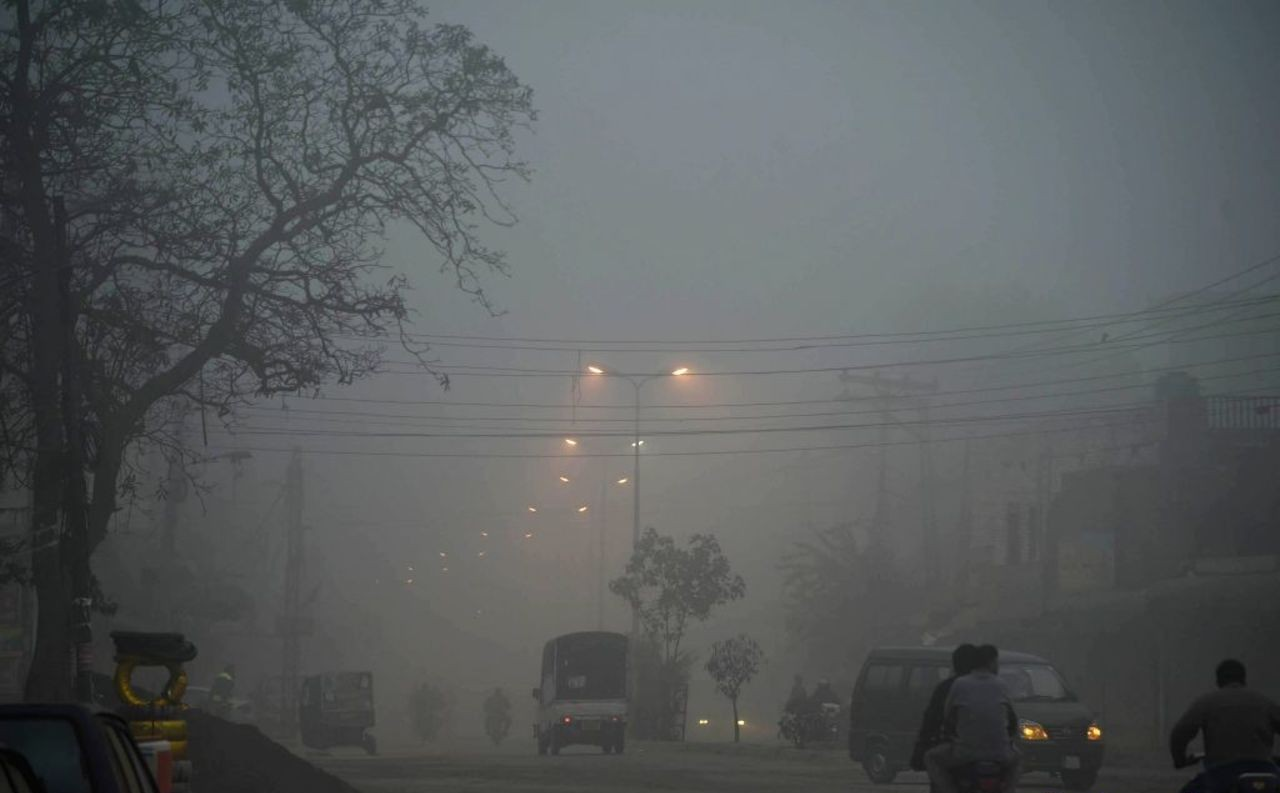car: (855, 647, 1102, 782), (3, 702, 158, 787)
person: (1163, 658, 1278, 791), (923, 646, 1027, 792)
truck: (535, 636, 627, 753)
